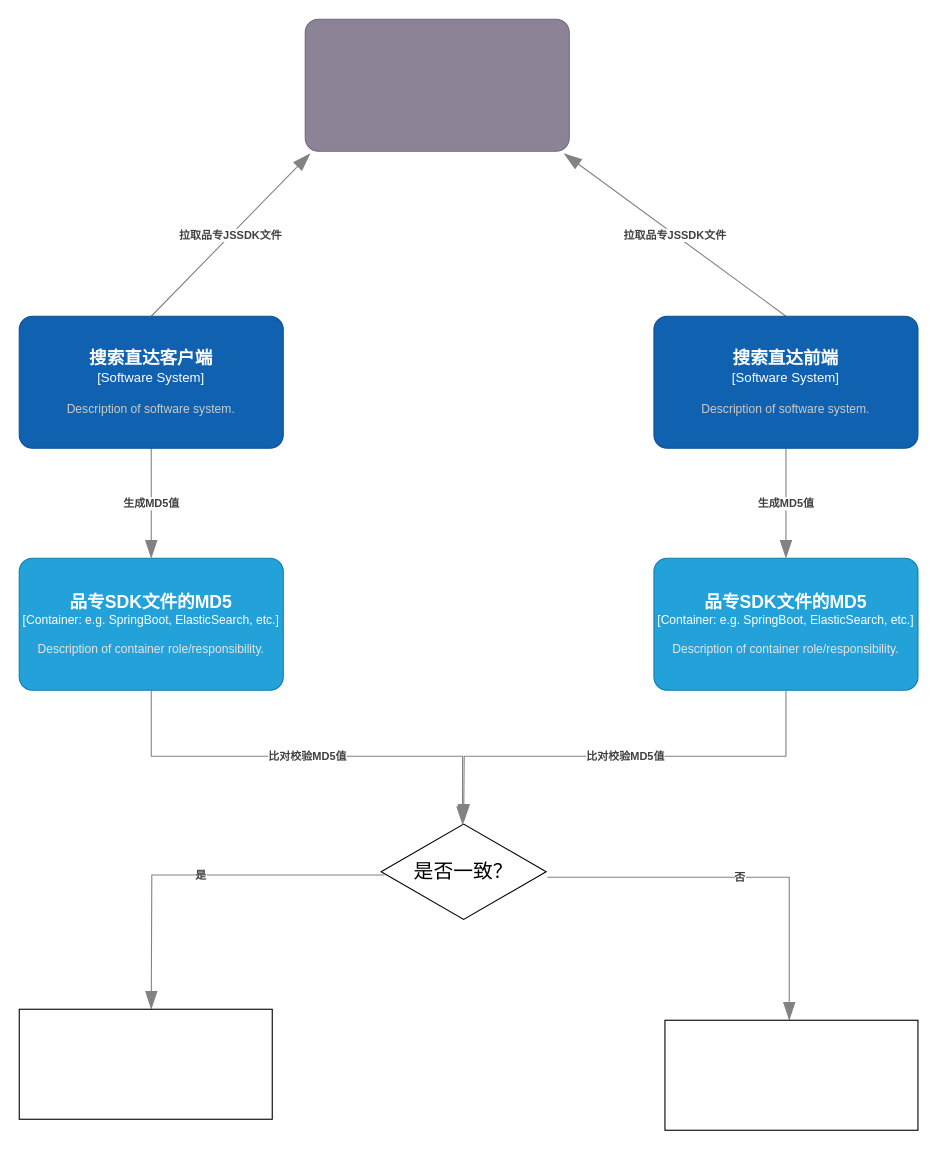
This 937x1150 diagram has some shape labels left out. Each missing label, with the box of its shape:
品专JSSDK [Software System] Description of external software system.: (304, 18, 569, 151)
客户端引用 兜底的稳定版本的 搜索直达前端文件: (664, 1019, 918, 1130)
客户端正常引用 搜索直达前端文件: (18, 1008, 272, 1119)
